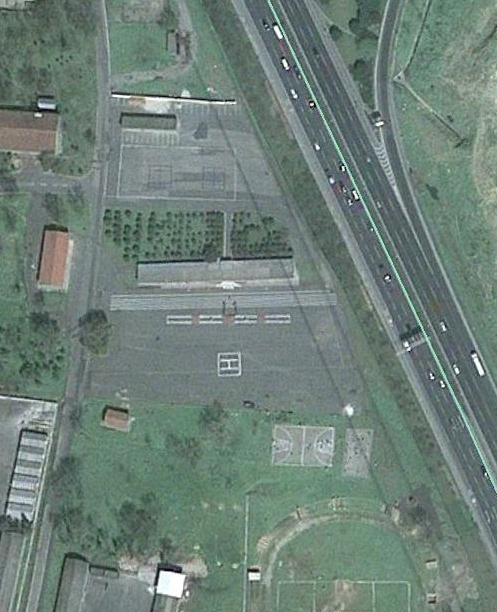heliport: (218, 357, 239, 371)
